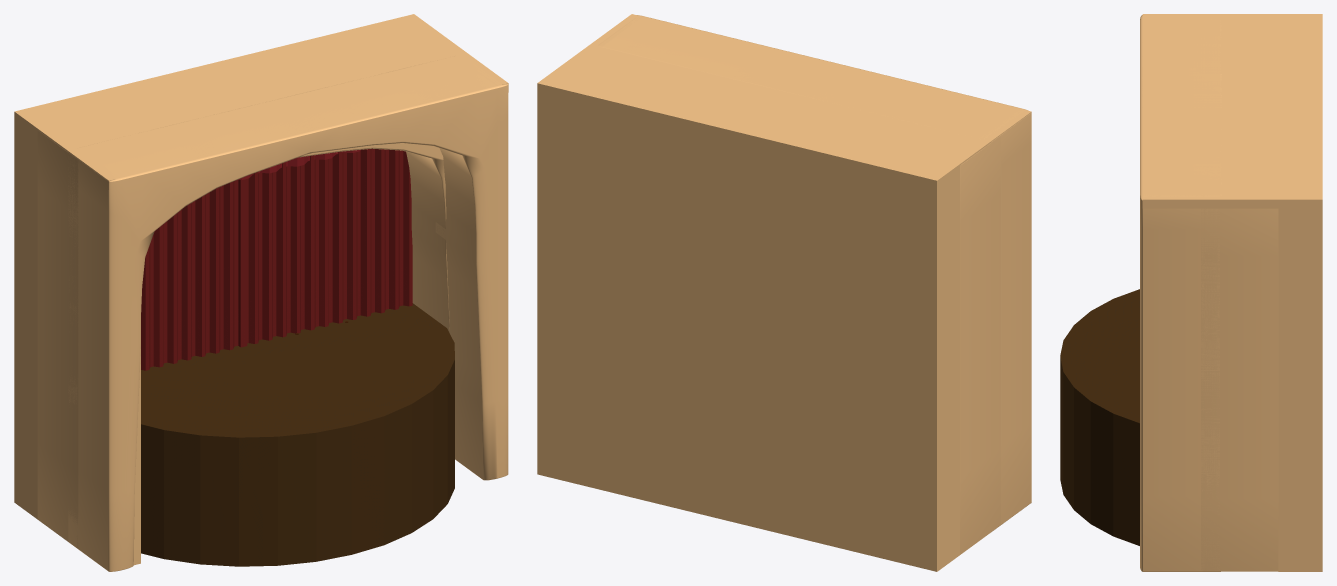
The model's file is wagnerAR-transformed.glb.
3 renders of one model, left to right at view 1: azimuth 30°, elevation 25°; view 2: azimuth 150°, elevation 25°; view 3: azimuth 270°, elevation 25°, orthographic. The views are drawn at different scales.
Visible parts, largest first — view 1: Cube.005; view 2: Cube.005; view 3: Cube.005.
Part boxes in pixels (<box>): Cube.005: <box>14,14,508,571</box>; Cube.005: <box>537,14,1031,571</box>; Cube.005: <box>1060,14,1322,571</box>.
Bounding box in the file's own units: 46.19 × 43.28 × 27.61.
6 materials, 6 textured.
